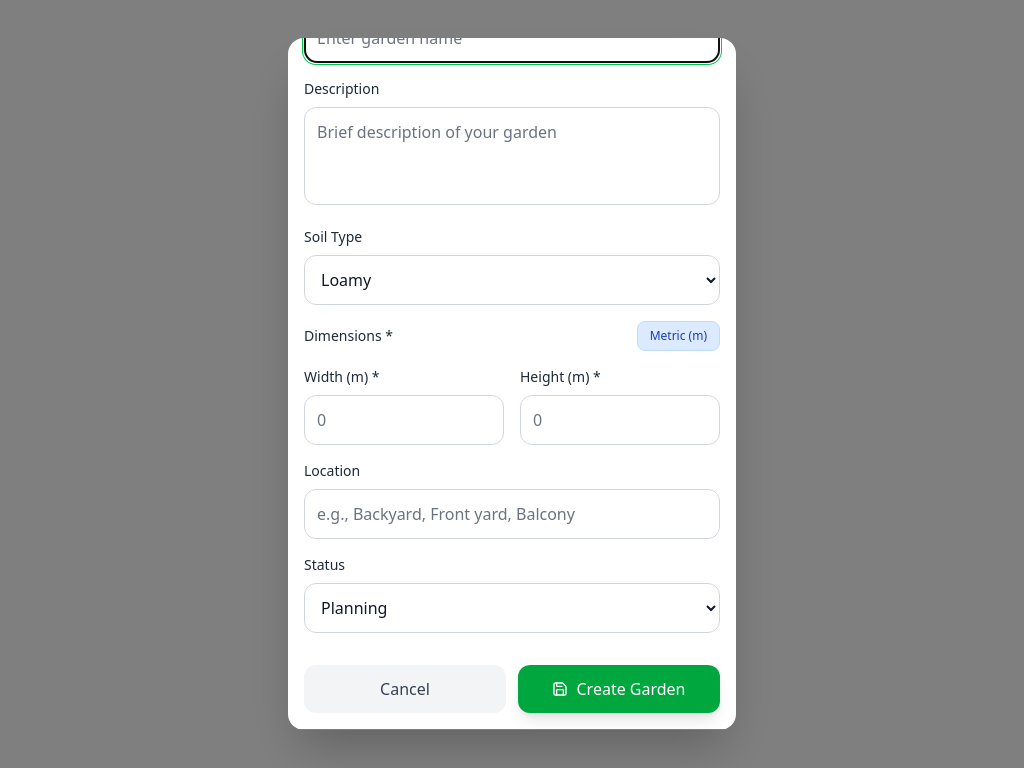
Test: GardenForm validation › shows required messages for garden name, width, and height
(page scrolled)
Click the button "Create Garden": coordinates (619, 689) [518, 665, 720, 713]
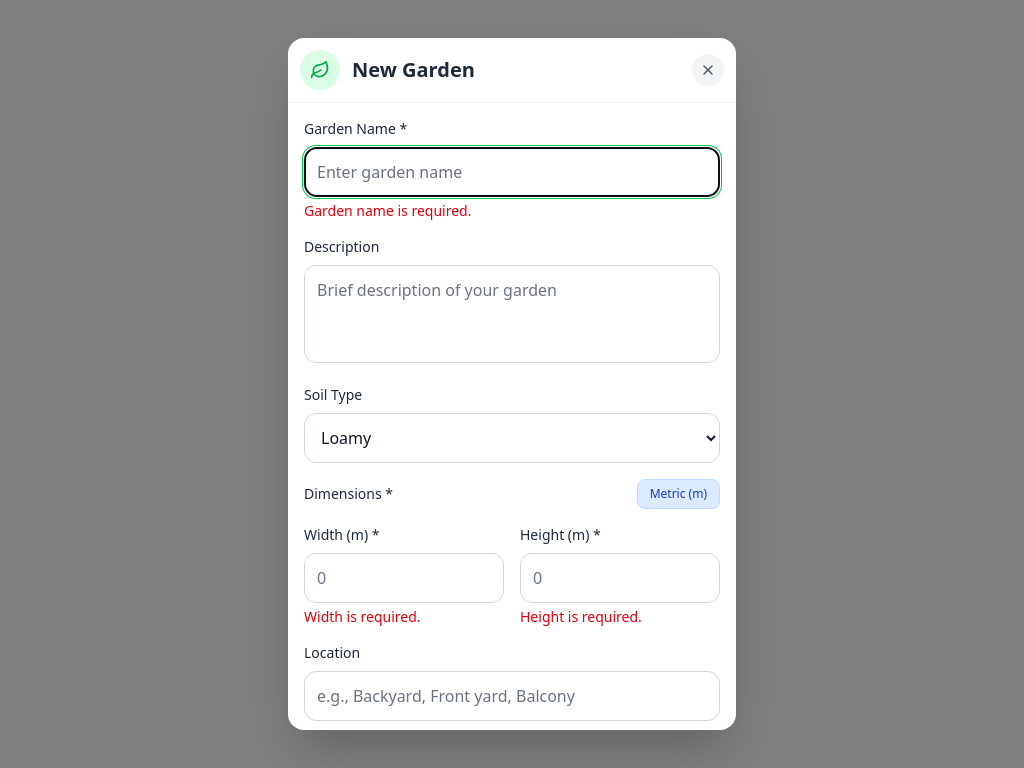
Expected: the text "Garden name is required." is shown, [304, 201, 472, 220]
Expected: the text "Width is required." is shown, [304, 607, 421, 626]
Expected: the text "Height is required." is shown, [520, 607, 642, 626]
